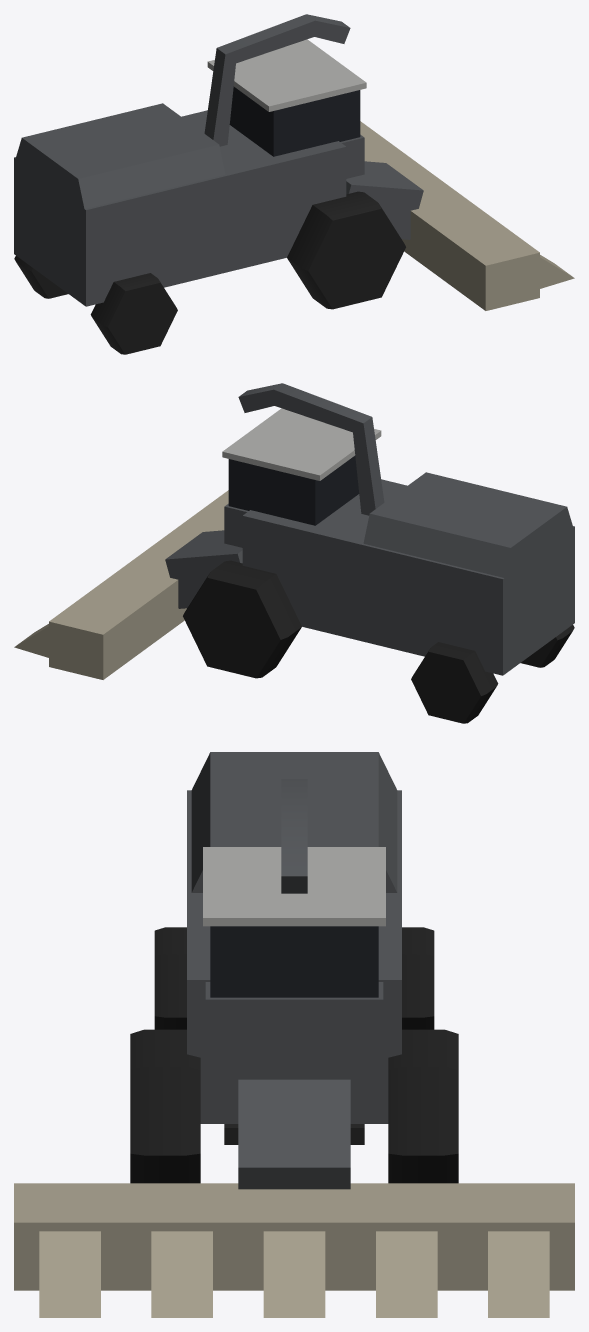
The model's file is SM_Prop_farm_forager_2_LOD2.glb.
3 views of the same model, one above another, from view 1: azimuth 30°, elevation 25°; view 2: azimuth 150°, elevation 25°; view 3: azimuth 270°, elevation 25° (orthographic). The views are drawn at different scales.
Visible parts, largest first — view 1: SM_Prop_farm_forager_2_LOD2; view 2: SM_Prop_farm_forager_2_LOD2; view 3: SM_Prop_farm_forager_2_LOD2.
Boxes of the visible parts, x1,y1,x2,y2 form: SM_Prop_farm_forager_2_LOD2: (14,14,574,354); SM_Prop_farm_forager_2_LOD2: (14,383,574,723); SM_Prop_farm_forager_2_LOD2: (14,752,574,1317).
Bounding box in the file's own units: 8.1 × 4.37 × 6.
